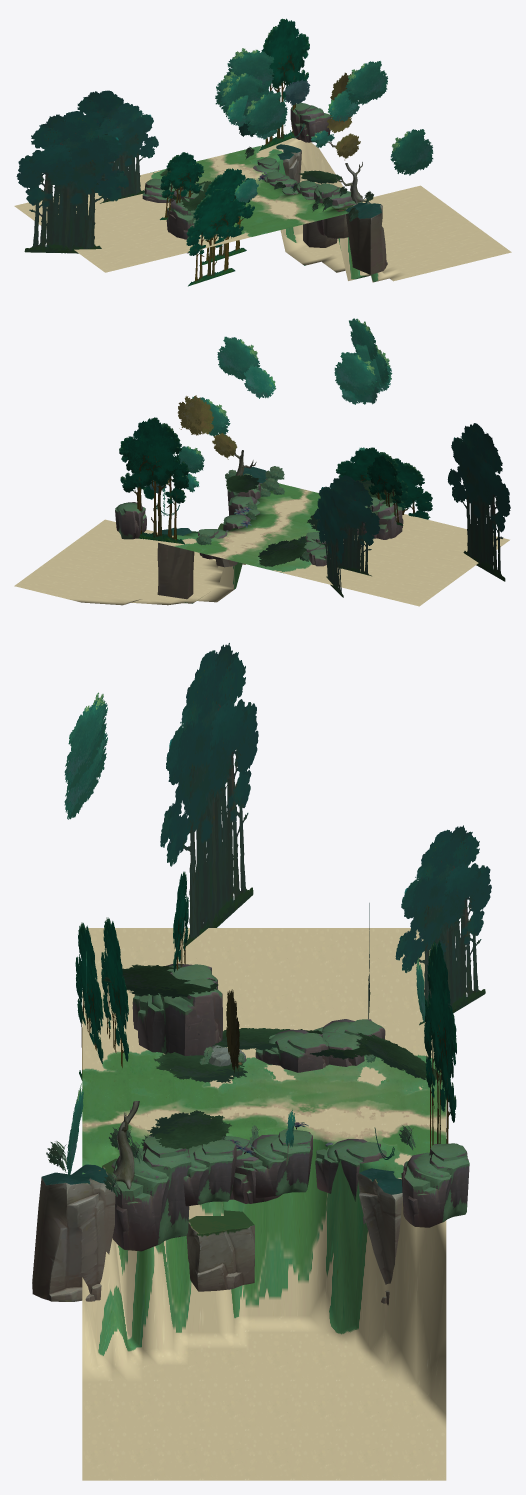
Rendered from chunk_2.glb.
3 views of the same model, one above another, from view 1: azimuth 30°, elevation 25°; view 2: azimuth 150°, elevation 25°; view 3: azimuth 270°, elevation 25° (orthographic). The views are drawn at different scales.
Parts seen in each view (by area): view 1: Mesh_terrain_map_shulin_001_b_1, x46_SL_Plant_03 (×3), x46_SL_Plant_02 (×4), x46_SL_Plant_01c (×7), map_world002_stone_014a (×6), x46_SL_Stone_01 (2), x46_SL_Plant_01b (×4), map_world002_stone_014b (×2), x46_SL_Stone_01 (1), x46_SL_Stone_02 (3), x46_SL_Stone_02 (6), x46_SL_Plant_01a (+1 smaller); view 2: Mesh_terrain_map_shulin_001_b_1, x46_SL_Plant_03 (×3), x46_SL_Plant_02 (×4), x46_SL_Plant_01c (×6), x46_SL_Plant_01b (×3), x46_SL_Stone_01 (1), x46_SL_Plant_01a (×2), map_world002_stone_014b (×2), map_world002_stone_014a (×2); view 3: Mesh_terrain_map_shulin_001_b_1, x46_SL_Plant_03 (×2), map_world002_stone_014a (×7), x46_SL_Plant_02 (×4), x46_SL_Stone_01 (2), x46_SL_Plant_01b (×5), map_world002_stone_014b (×3), x46_SL_Stone_02 (6), x46_SL_Stone_01 (1), x46_SL_Plant_01c (×2), x46_SL_Tree_001 (1).
Boxes of the visible parts, x1,y1,x2,y2 form: Mesh_terrain_map_shulin_001_b_1: [14, 138, 511, 282]; x46_SL_Plant_03 (×3): [16, 90, 158, 253]; x46_SL_Plant_02 (×4): [160, 18, 309, 286]; x46_SL_Plant_01c (×7): [215, 48, 433, 175]; map_world002_stone_014a (×6): [143, 102, 362, 222]; x46_SL_Stone_01 (2): [346, 202, 387, 274]; x46_SL_Plant_01b (×4): [226, 90, 359, 203]; map_world002_stone_014b (×2): [166, 108, 330, 253]; x46_SL_Stone_01 (1): [276, 144, 301, 183]; x46_SL_Stone_02 (3): [324, 204, 355, 238]; x46_SL_Stone_02 (6): [303, 221, 337, 247]; x46_SL_Plant_01a: [335, 133, 360, 160]; Mesh_terrain_map_shulin_001_b_1: [14, 478, 509, 606]; x46_SL_Plant_03 (×3): [313, 423, 510, 597]; x46_SL_Plant_02 (×4): [119, 417, 432, 544]; x46_SL_Plant_01c (×6): [176, 318, 392, 473]; x46_SL_Plant_01b (×3): [226, 365, 306, 566]; x46_SL_Stone_01 (1): [157, 528, 194, 599]; x46_SL_Plant_01a (×2): [177, 395, 237, 459]; map_world002_stone_014b (×2): [115, 508, 403, 539]; map_world002_stone_014a (×2): [115, 497, 402, 538]; Mesh_terrain_map_shulin_001_b_1: [82, 928, 446, 1480]; x46_SL_Plant_03 (×2): [160, 643, 491, 1025]; map_world002_stone_014a (×7): [111, 978, 469, 1245]; x46_SL_Plant_02 (×4): [75, 871, 456, 1149]; x46_SL_Stone_01 (2): [32, 1164, 115, 1301]; x46_SL_Plant_01b (×5): [102, 964, 440, 1149]; map_world002_stone_014b (×3): [111, 992, 449, 1251]; x46_SL_Stone_02 (6): [186, 1210, 254, 1291]; x46_SL_Stone_01 (1): [357, 1168, 402, 1305]; x46_SL_Plant_01c (×2): [64, 692, 107, 819]; x46_SL_Tree_001 (1): [107, 1101, 139, 1189].
Bounding box in the file's own units: 90.2 × 50.86 × 39.94.
13 materials, 13 textured.
